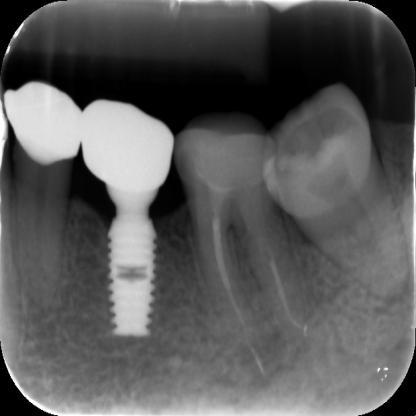Bicon: (100, 213, 165, 345)
